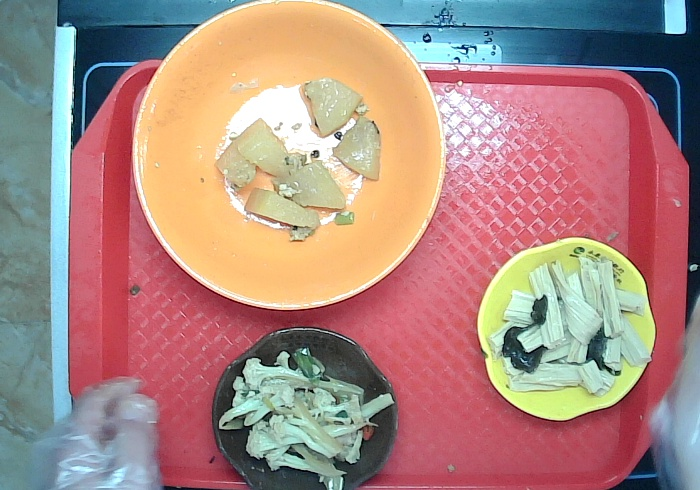YKMZ-Huang_Se_Ao_Bian_Wan: (475, 235, 659, 423)
YKMZ-Ju_Se_Tang_Wan: (130, 1, 446, 310)
YKMZ-Ka_Fei_Ao_Bian_Wan: (210, 324, 400, 490)
